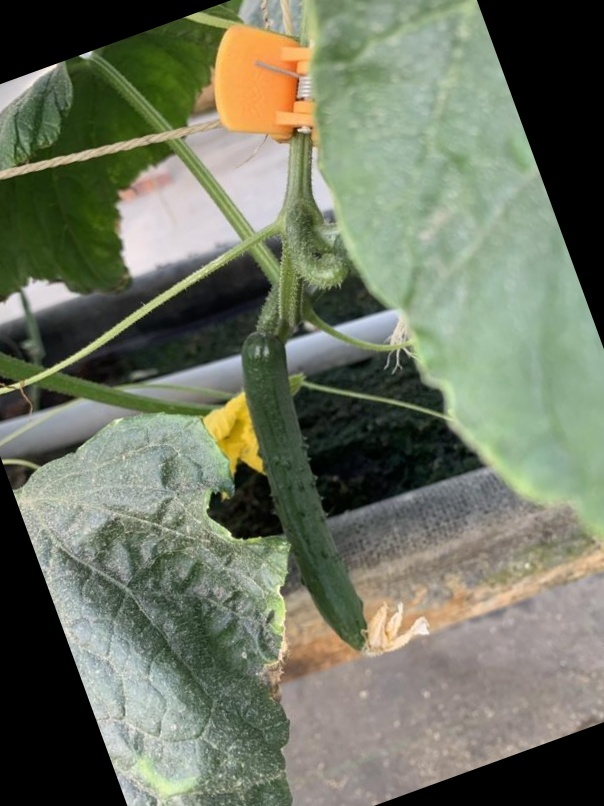mature: (233, 325, 384, 652)
